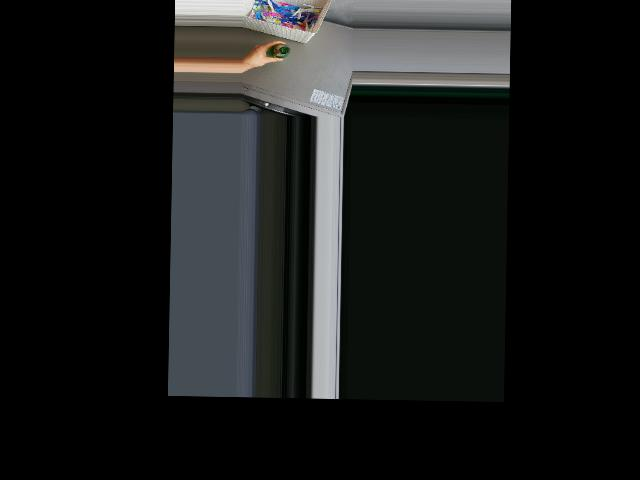beer: (269, 43, 290, 58)
